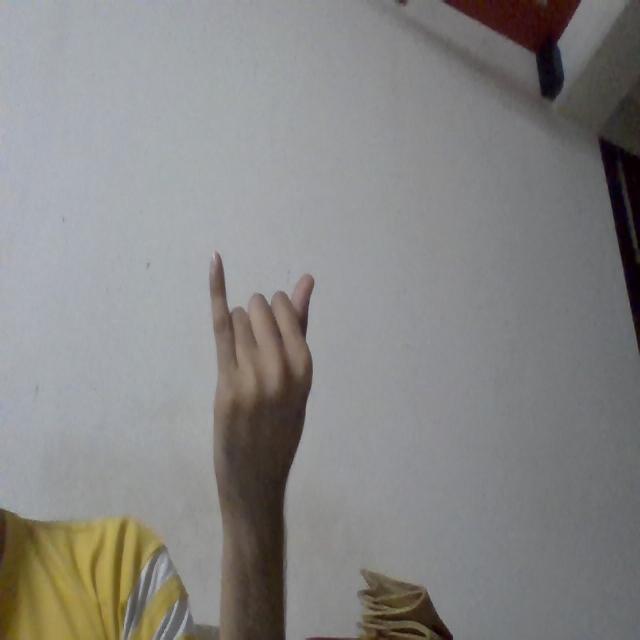J: (183, 208, 391, 565)
